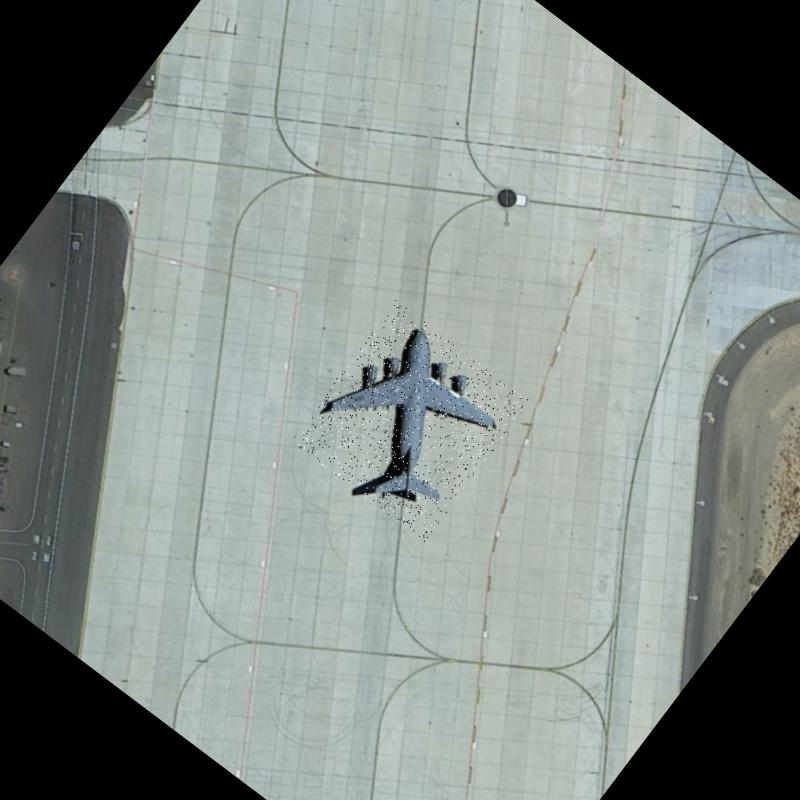A3: (289, 300, 530, 542)
